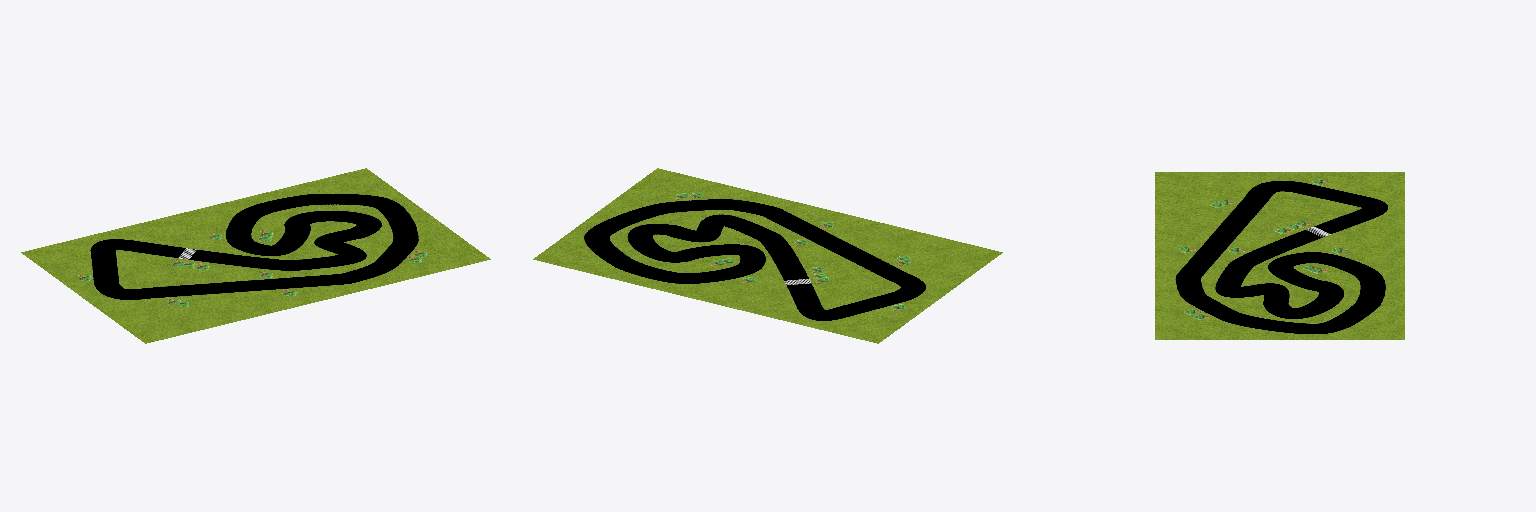
3 views of the same model, side by side, from view 1: azimuth 30°, elevation 25°; view 2: azimuth 150°, elevation 25°; view 3: azimuth 270°, elevation 25° (orthographic).
Parts seen in each view (by area): view 1: Plane; view 2: Plane; view 3: Plane.
Part boxes in pixels (bbox=[...]): Plane: bbox=[21, 168, 490, 343]; Plane: bbox=[533, 168, 1002, 343]; Plane: bbox=[1155, 172, 1404, 339].
Bounding box in the file's own units: 6472 × 0 × 4048.
Materials: 1 (1 with a texture image).